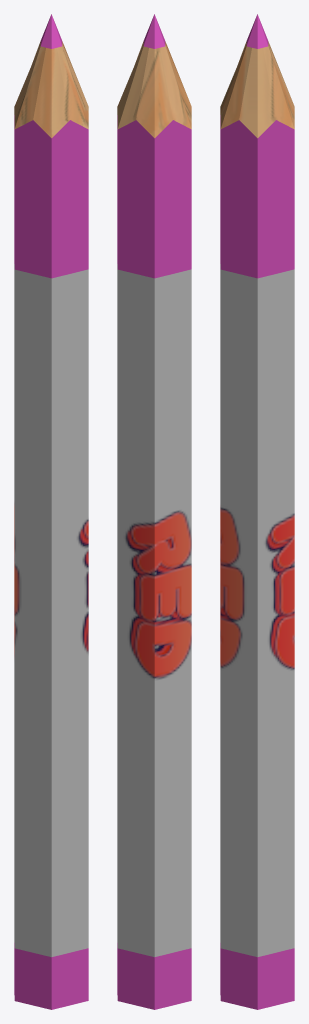
File: Color Pencil.fbx
3 renders of one model, left to right at view 1: azimuth 90°, elevation 25°; view 2: azimuth 210°, elevation 25°; view 3: azimuth 270°, elevation 25°, orthographic.
Parts seen in each view (by area): view 1: Color Pencil; view 2: Color Pencil; view 3: Color Pencil.
Part boxes in pixels (x1,y1,x2,y2): Color Pencil: [14, 14, 88, 1009]; Color Pencil: [117, 14, 191, 1009]; Color Pencil: [220, 14, 294, 1009].
Bounding box in the file's own units: 55.72 × 703 × 48.4.
2 materials, 1 textured.
